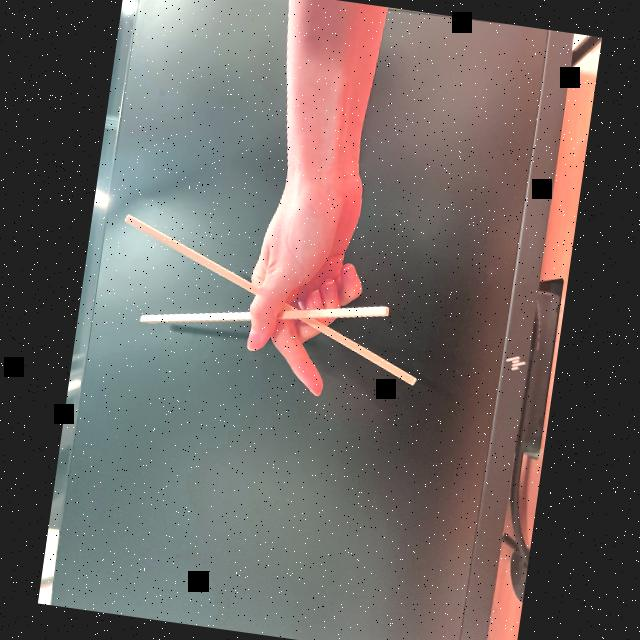stick: (104, 172, 442, 410)
